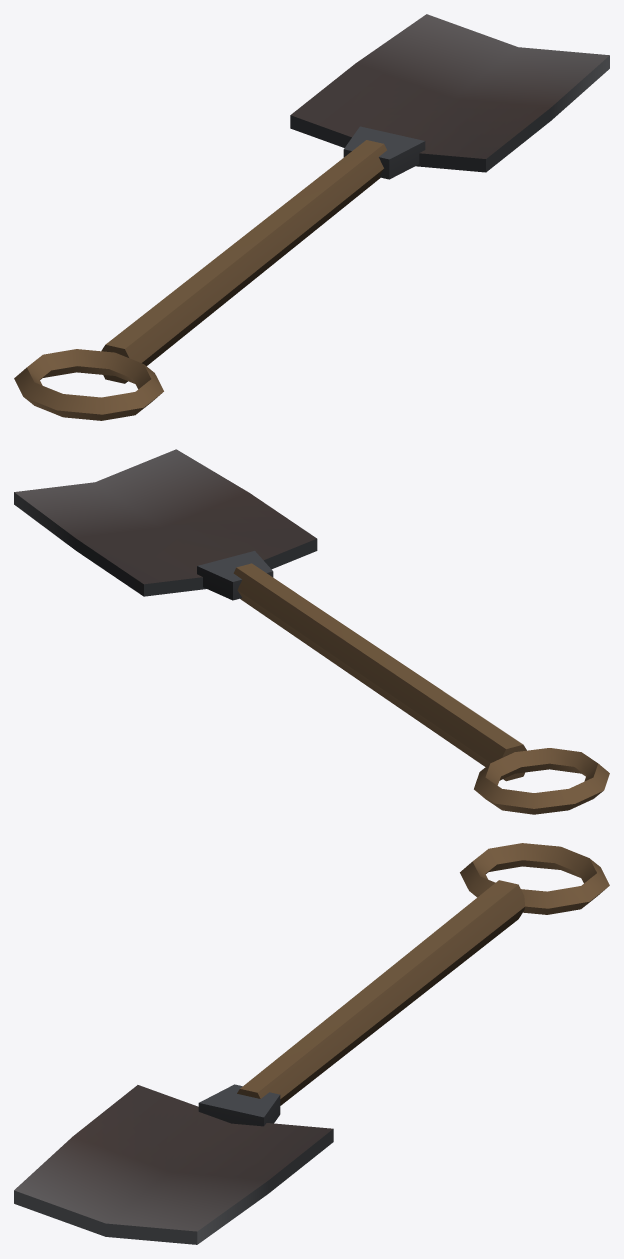
The model's file is ph_item_shovel_iron.glb.
3 renders of one model, top to bottom at view 1: azimuth 90°, elevation 25°; view 2: azimuth 150°, elevation 25°; view 3: azimuth 270°, elevation 25°, orthographic. The views are drawn at different scales.
Visible parts, largest first — view 1: ph_item_shovel_iron; view 2: ph_item_shovel_iron; view 3: ph_item_shovel_iron.
Part boxes in pixels (x1=…): ph_item_shovel_iron: x1=14, y1=14, x2=609, y2=420; ph_item_shovel_iron: x1=14, y1=449, x2=609, y2=814; ph_item_shovel_iron: x1=14, y1=843, x2=609, y2=1244.
Bounding box in the file's own units: 0.5015 × 0.0208 × 0.3227.
